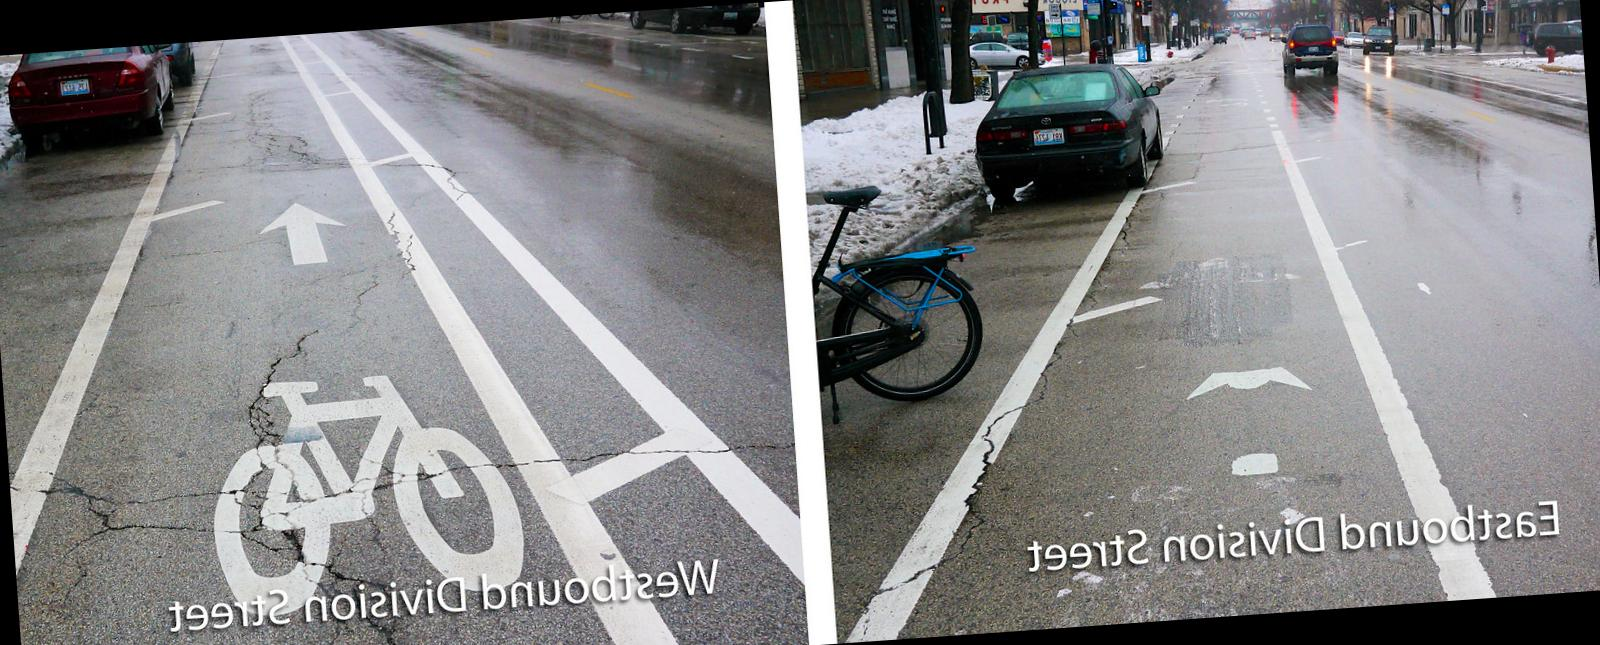faded_road_lines: (850, 188, 1155, 641), (1271, 123, 1496, 599), (1070, 256, 1297, 347), (1177, 352, 1327, 489), (366, 192, 441, 308), (1178, 73, 1265, 131), (415, 136, 482, 208), (1206, 367, 1309, 388)
pothole: (240, 92, 343, 169)
